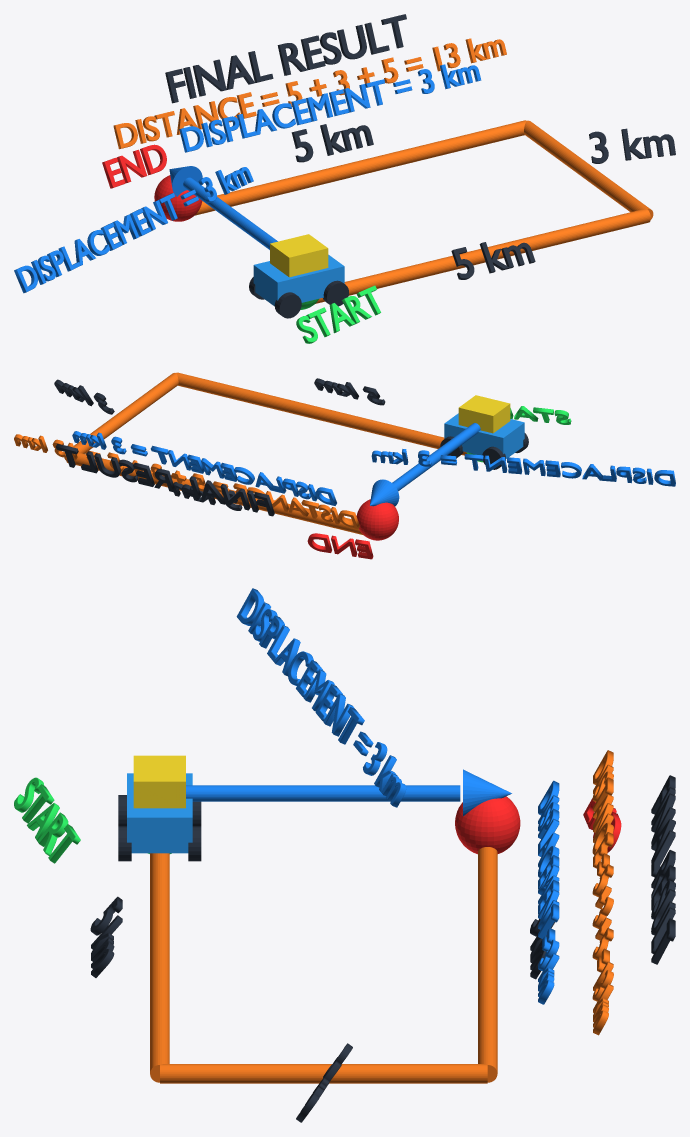
Rendered from الازاحة.glb.
3 views of the same model, one above another, from view 1: azimuth 30°, elevation 25°; view 2: azimuth 150°, elevation 25°; view 3: azimuth 270°, elevation 25° (orthographic). The views are drawn at different scales.
Visible parts, largest first — view 1: PATH_5KM_TOP, DISPLACEMENT_RESULT, RESULT_TITLE, DISTANCE_RESULT, DISPLACEMENT_LABEL, PATH_5KM_BOTTOM, CAR_BODY, PATH_3KM_RIGHT, CAR_ROOF, START_LABEL, END_LABEL, LABEL_5KM_BOTTOM (+7 smaller); view 2: PATH_5KM_BOTTOM, DISPLACEMENT_LABEL, DISPLACEMENT_RESULT, RESULT_TITLE, DISTANCE_RESULT, CAR_BODY, CAR_ROOF, PATH_3KM_RIGHT, END_POINT, PATH_5KM_TOP, DISPLACEMENT_ARROW, END_LABEL (+5 smaller); view 3: DISPLACEMENT_LABEL, PATH_3KM_RIGHT, DISTANCE_RESULT, PATH_5KM_TOP, PATH_5KM_BOTTOM, DISPLACEMENT_ARROW, DISPLACEMENT_RESULT, RESULT_TITLE, CAR_BODY, CAR_ROOF, END_POINT, START_LABEL (+3 smaller).
Part boxes in pixels (<box>): PATH_5KM_TOP: <box>195,120,526,215</box>; DISPLACEMENT_RESULT: <box>179,64,481,152</box>; RESULT_TITLE: <box>165,14,406,103</box>; DISTANCE_RESULT: <box>113,38,506,149</box>; DISPLACEMENT_LABEL: <box>14,167,253,293</box>; PATH_5KM_BOTTOM: <box>315,209,650,303</box>; CAR_BODY: <box>253,254,344,306</box>; PATH_3KM_RIGHT: <box>524,120,653,219</box>; CAR_ROOF: <box>270,234,328,277</box>; START_LABEL: <box>296,285,380,343</box>; END_LABEL: <box>102,144,166,188</box>; LABEL_5KM_BOTTOM: <box>451,242,535,279</box>; PATH_5KM_BOTTOM: <box>176,372,467,455</box>; DISPLACEMENT_LABEL: <box>371,449,675,486</box>; DISPLACEMENT_RESULT: <box>72,431,336,505</box>; RESULT_TITLE: <box>55,443,274,516</box>; DISTANCE_RESULT: <box>14,434,359,528</box>; CAR_BODY: <box>444,413,524,458</box>; CAR_ROOF: <box>458,395,510,433</box>; PATH_3KM_RIGHT: <box>64,373,178,460</box>; END_POINT: <box>356,499,398,540</box>; PATH_5KM_TOP: <box>66,452,363,535</box>; DISPLACEMENT_ARROW: <box>392,423,480,491</box>; END_LABEL: <box>307,533,373,559</box>; DISPLACEMENT_LABEL: <box>236,588,406,807</box>; PATH_3KM_RIGHT: <box>160,1064,487,1083</box>; DISTANCE_RESULT: <box>592,750,613,1035</box>; PATH_5KM_TOP: <box>478,847,497,1082</box>; PATH_5KM_BOTTOM: <box>150,853,169,1082</box>; DISPLACEMENT_ARROW: <box>186,785,460,801</box>; DISPLACEMENT_RESULT: <box>538,780,559,1004</box>; RESULT_TITLE: <box>651,775,675,964</box>; CAR_BODY: <box>127,773,192,853</box>; CAR_ROOF: <box>133,755,185,808</box>; END_POINT: <box>455,796,520,854</box>; START_LABEL: <box>14,777,80,863</box>.
Bounding box in the file's own units: 9.75 × 1.16 × 6.06.
